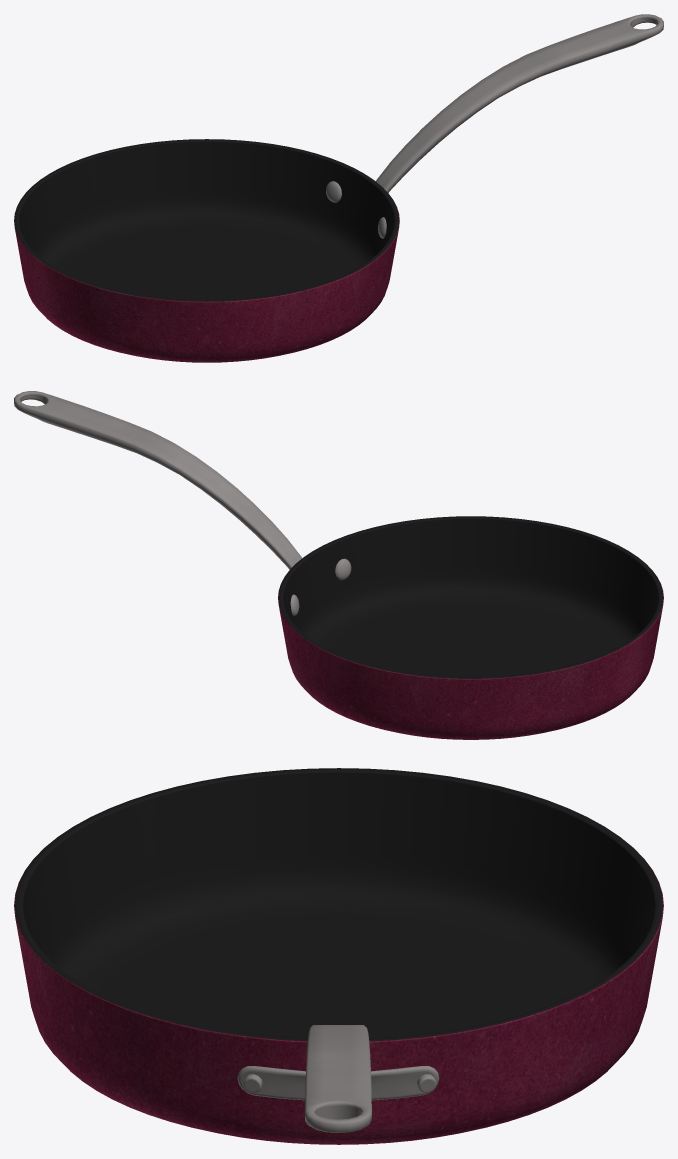
The model's file is padella19.glb.
The picture shows the model from 3 angles, top to bottom: view 1: azimuth 30°, elevation 25°; view 2: azimuth 150°, elevation 25°; view 3: azimuth 270°, elevation 25°; orthographic projection. The views are drawn at different scales.
Parts seen in each view (by area): view 1: contemporary_cookware_frying_pan_YBK2_FQ; view 2: contemporary_cookware_frying_pan_YBK2_FQ; view 3: contemporary_cookware_frying_pan_YBK2_FQ.
Boxes of the visible parts, x1,y1,x2,y2 form: contemporary_cookware_frying_pan_YBK2_FQ: (14, 14, 663, 362); contemporary_cookware_frying_pan_YBK2_FQ: (14, 391, 663, 739); contemporary_cookware_frying_pan_YBK2_FQ: (14, 768, 663, 1144).
Bounding box in the file's own units: 59.34 × 15.05 × 31.91.
Materials: 2 (2 with a texture image).
